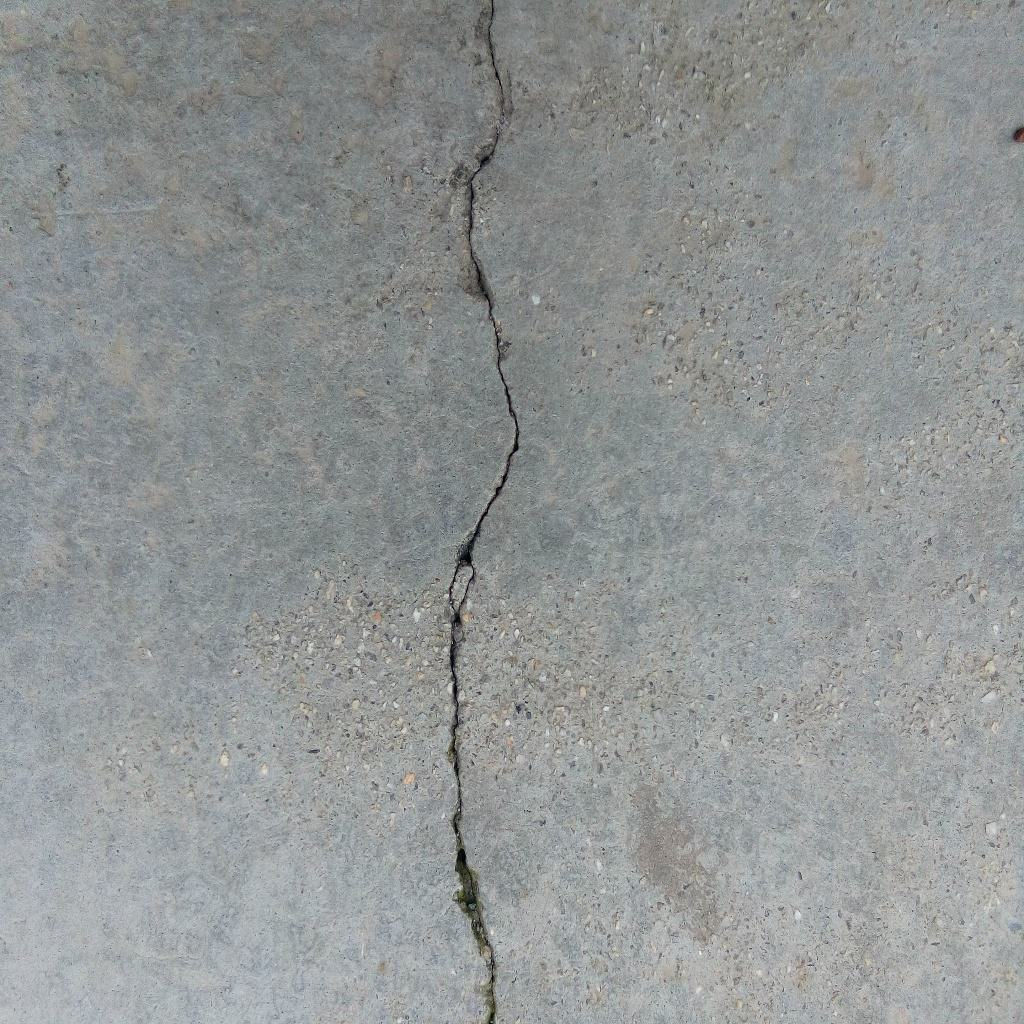Crack: (445, 1, 522, 1024)
